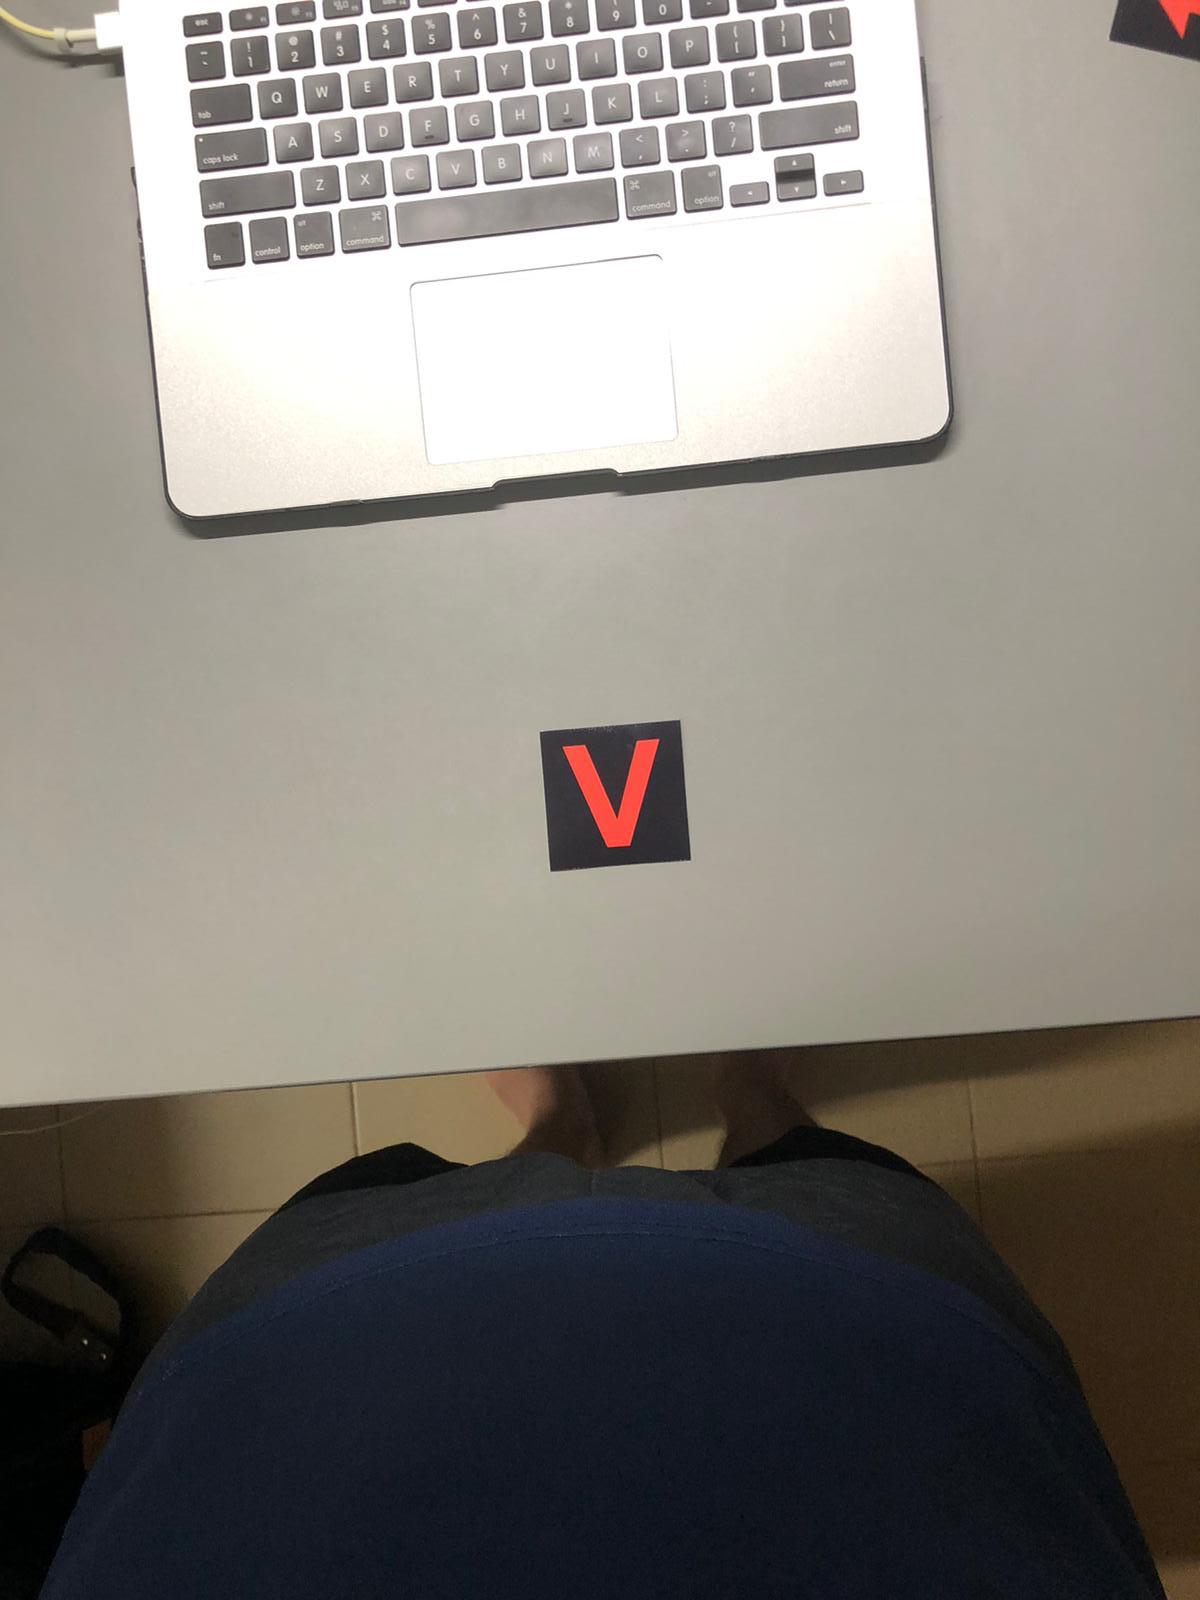V: (542, 729, 687, 867)
